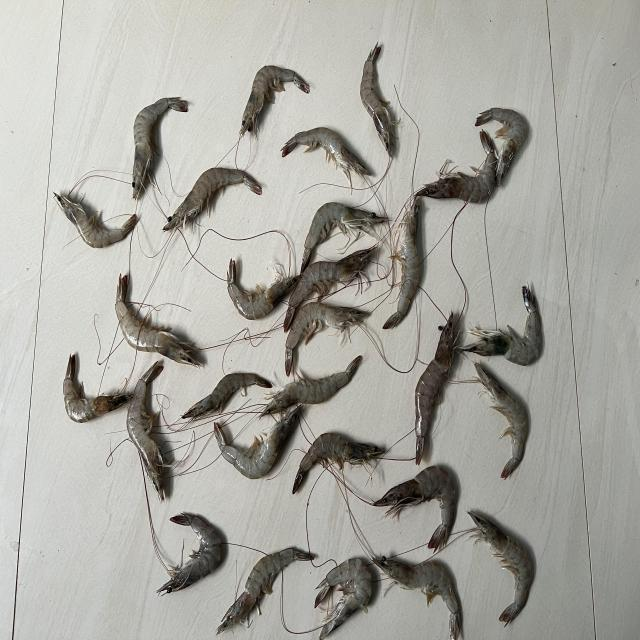shrimp: (216, 548, 314, 635), (284, 244, 377, 332), (114, 274, 201, 366), (468, 512, 532, 627), (373, 557, 460, 640), (374, 466, 456, 552), (459, 286, 542, 365), (260, 355, 363, 417), (214, 406, 301, 479), (416, 312, 457, 465), (163, 167, 262, 230), (285, 302, 369, 376), (475, 362, 528, 479), (301, 201, 388, 272), (417, 130, 498, 202), (131, 96, 188, 198), (126, 361, 167, 502), (282, 126, 370, 191), (292, 433, 385, 494), (239, 64, 310, 137), (157, 514, 221, 594), (383, 195, 420, 329), (62, 355, 132, 423), (315, 559, 372, 640), (53, 192, 136, 247), (227, 258, 300, 319), (182, 372, 272, 419), (476, 107, 528, 185), (360, 42, 393, 156)
